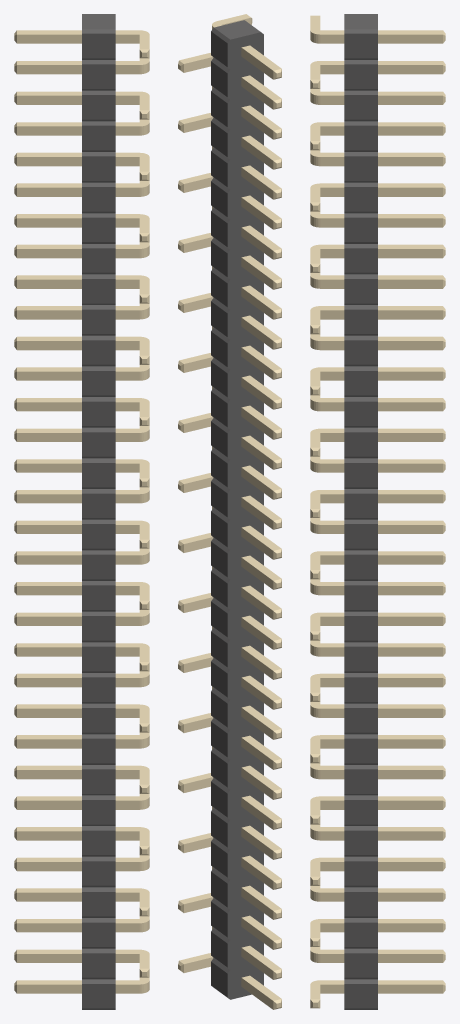
File: PinHeader_1x32_P1.00mm_Vertical_SMD_Pin1Right.glb
The picture shows the model from 3 angles, left to right: view 1: azimuth 90°, elevation 25°; view 2: azimuth 210°, elevation 25°; view 3: azimuth 270°, elevation 25°; orthographic projection. The views are drawn at different scales.
Visible parts, largest first — view 1: Shape_IndexedFaceSet.007, Shape_IndexedFaceSet.025, Shape_IndexedFaceSet.109, Shape_IndexedFaceSet.127, Shape_IndexedFaceSet.145, Shape_IndexedFaceSet.013, Shape_IndexedFaceSet.019, Shape_IndexedFaceSet.031, Shape_IndexedFaceSet.037, Shape_IndexedFaceSet.043, Shape_IndexedFaceSet.049, Shape_IndexedFaceSet.055 (+53 smaller); view 2: Shape_IndexedFaceSet.004, Shape_IndexedFaceSet.001, Shape_IndexedFaceSet.052, Shape_IndexedFaceSet.082, Shape_IndexedFaceSet.112, Shape_IndexedFaceSet.142, Shape_IndexedFaceSet.070, Shape_IndexedFaceSet.076, Shape_IndexedFaceSet.088, Shape_IndexedFaceSet.094, Shape_IndexedFaceSet.100, Shape_IndexedFaceSet.106 (+88 smaller); view 3: Shape_IndexedFaceSet.002, Shape_IndexedFaceSet.022, Shape_IndexedFaceSet.106, Shape_IndexedFaceSet.124, Shape_IndexedFaceSet.142, Shape_IndexedFaceSet.010, Shape_IndexedFaceSet.016, Shape_IndexedFaceSet.028, Shape_IndexedFaceSet.034, Shape_IndexedFaceSet.040, Shape_IndexedFaceSet.046, Shape_IndexedFaceSet.052 (+53 smaller).
Boxes of the visible parts, x1=… form: Shape_IndexedFaceSet.007: x1=82, y1=33, x2=115, y2=58; Shape_IndexedFaceSet.025: x1=82, y1=125, x2=115, y2=150; Shape_IndexedFaceSet.109: x1=82, y1=554, x2=115, y2=579; Shape_IndexedFaceSet.127: x1=82, y1=646, x2=115, y2=671; Shape_IndexedFaceSet.145: x1=82, y1=738, x2=115, y2=763; Shape_IndexedFaceSet.013: x1=82, y1=64, x2=115, y2=88; Shape_IndexedFaceSet.019: x1=82, y1=95, x2=115, y2=119; Shape_IndexedFaceSet.031: x1=82, y1=156, x2=115, y2=180; Shape_IndexedFaceSet.037: x1=82, y1=187, x2=115, y2=211; Shape_IndexedFaceSet.043: x1=82, y1=217, x2=115, y2=241; Shape_IndexedFaceSet.049: x1=82, y1=248, x2=115, y2=272; Shape_IndexedFaceSet.055: x1=82, y1=279, x2=115, y2=303; Shape_IndexedFaceSet.004: x1=227, y1=32, x2=263, y2=999; Shape_IndexedFaceSet.001: x1=214, y1=20, x2=260, y2=39; Shape_IndexedFaceSet.052: x1=211, y1=271, x2=227, y2=307; Shape_IndexedFaceSet.082: x1=211, y1=421, x2=227, y2=457; Shape_IndexedFaceSet.112: x1=211, y1=571, x2=227, y2=607; Shape_IndexedFaceSet.142: x1=211, y1=721, x2=227, y2=757; Shape_IndexedFaceSet.070: x1=211, y1=361, x2=227, y2=397; Shape_IndexedFaceSet.076: x1=211, y1=391, x2=227, y2=427; Shape_IndexedFaceSet.088: x1=211, y1=451, x2=227, y2=487; Shape_IndexedFaceSet.094: x1=211, y1=481, x2=227, y2=517; Shape_IndexedFaceSet.100: x1=211, y1=511, x2=227, y2=547; Shape_IndexedFaceSet.106: x1=211, y1=541, x2=227, y2=577; Shape_IndexedFaceSet.002: x1=344, y1=33, x2=377, y2=58; Shape_IndexedFaceSet.022: x1=344, y1=125, x2=377, y2=150; Shape_IndexedFaceSet.106: x1=344, y1=554, x2=377, y2=579; Shape_IndexedFaceSet.124: x1=344, y1=646, x2=377, y2=671; Shape_IndexedFaceSet.142: x1=344, y1=738, x2=377, y2=763; Shape_IndexedFaceSet.010: x1=344, y1=64, x2=377, y2=88; Shape_IndexedFaceSet.016: x1=344, y1=95, x2=377, y2=119; Shape_IndexedFaceSet.028: x1=344, y1=156, x2=377, y2=180; Shape_IndexedFaceSet.034: x1=344, y1=187, x2=377, y2=211; Shape_IndexedFaceSet.040: x1=344, y1=217, x2=377, y2=241; Shape_IndexedFaceSet.046: x1=344, y1=248, x2=377, y2=272; Shape_IndexedFaceSet.052: x1=344, y1=279, x2=377, y2=303.
Bounding box in the file's own units: 0.984 × 12.6 × 1.58.
